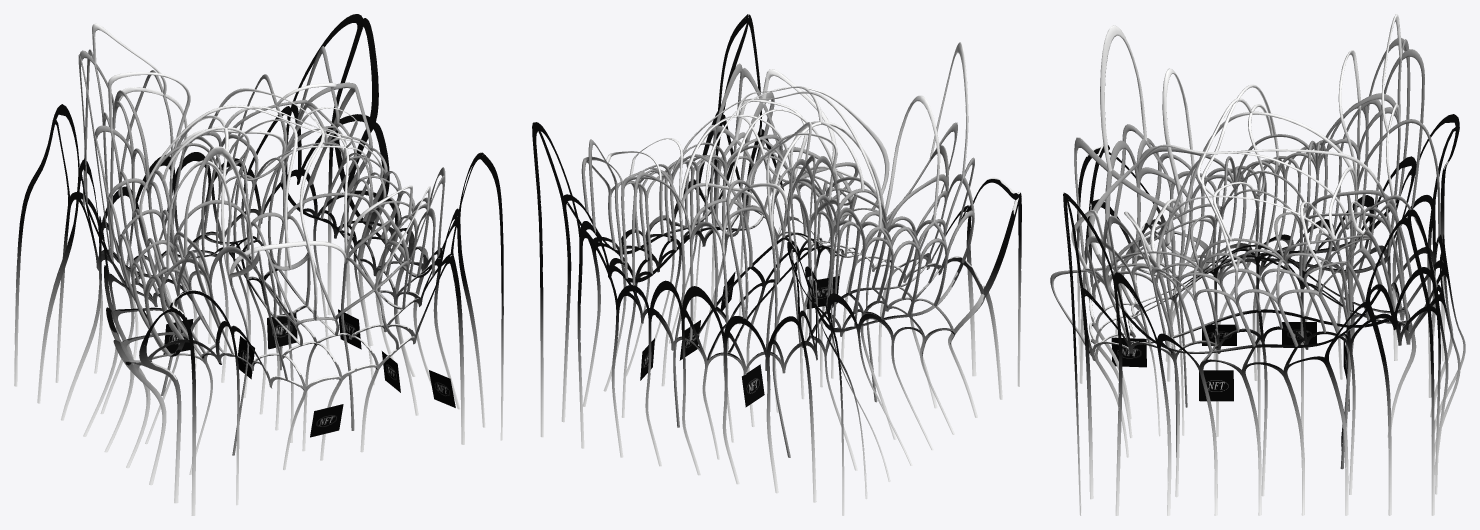
Rendered from 21-SPYDER_MOSK_PICCOLO_Digital_Topographies_21_.glb.
3 views of the same model, side by side, from view 1: azimuth 30°, elevation 25°; view 2: azimuth 150°, elevation 25°; view 3: azimuth 270°, elevation 25° (orthographic). The views are drawn at different scales.
Visible parts, largest first — view 1: R3.001, Slot_001, Slot_009, Slot_012; view 2: R3.001, Slot_006; view 3: R3.001, Slot_008, Slot_002, Slot_003, Slot_004.
Part boxes in pixels (box(x1,y1,x2,y2)): R3.001: box(14, 14, 503, 515); Slot_001: box(310, 404, 343, 437); Slot_009: box(267, 311, 297, 349); Slot_012: box(429, 370, 455, 407); R3.001: box(532, 14, 1021, 515); Slot_006: box(742, 364, 764, 407); R3.001: box(1050, 14, 1465, 515); Slot_008: box(1199, 370, 1233, 401); Slot_002: box(1111, 337, 1146, 367); Slot_003: box(1202, 324, 1236, 345); Slot_004: box(1282, 322, 1316, 344).
Bounding box in the file's own units: 23.8 × 23.8 × 23.9.
Materials: 19 (17 with a texture image).
